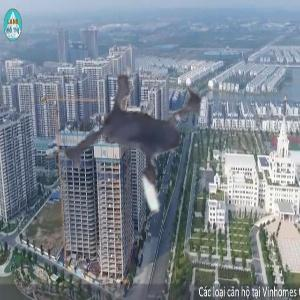drone: (24, 49, 257, 282)
